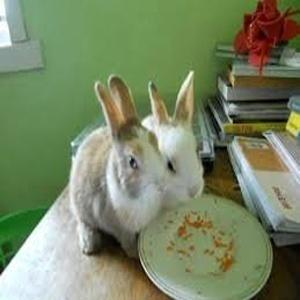rabbit: (70, 74, 203, 257)
